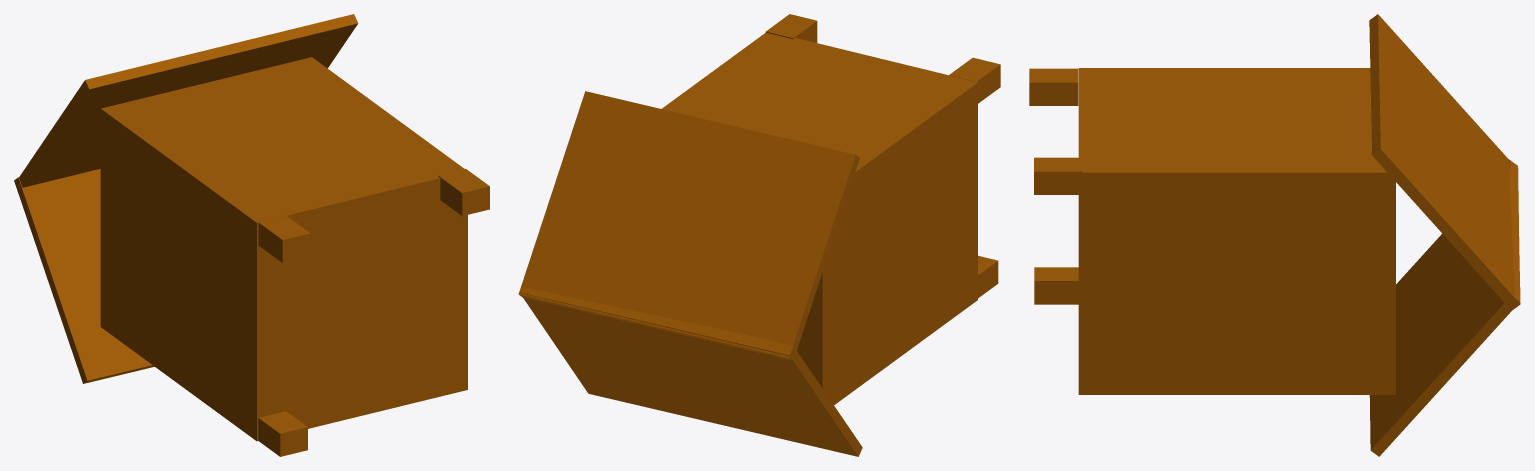
The model's file is hivefbx.fbx.
3 renders of one model, left to right at view 1: azimuth 30°, elevation 25°; view 2: azimuth 150°, elevation 25°; view 3: azimuth 270°, elevation 25°, orthographic. The views are drawn at different scales.
Visible parts, largest first — view 1: Hive, Cube.005, Cube.006, Cube.002, Cube.004, Cube.001; view 2: Cube.005, Hive, Cube.006, Cube.002, Cube.004, Cube.001; view 3: Hive, Cube.005, Cube.006, Cube.002, Cube.004, Cube.001.
Boxes of the visible parts, bbox=[...] form: Hive: bbox=[100, 57, 467, 441]; Cube.005: bbox=[19, 14, 358, 187]; Cube.006: bbox=[14, 169, 154, 383]; Cube.002: bbox=[258, 216, 310, 262]; Cube.004: bbox=[438, 169, 489, 216]; Cube.001: bbox=[258, 411, 307, 456]; Cube.005: bbox=[518, 91, 859, 360]; Hive: bbox=[662, 32, 977, 404]; Cube.006: bbox=[519, 287, 862, 456]; Cube.002: bbox=[949, 57, 1000, 103]; Cube.004: bbox=[765, 14, 817, 42]; Cube.001: bbox=[978, 255, 998, 298]; Hive: bbox=[1078, 68, 1395, 394]; Cube.005: bbox=[1369, 14, 1520, 310]; Cube.006: bbox=[1369, 159, 1519, 456]; Cube.002: bbox=[1029, 68, 1078, 105]; Cube.004: bbox=[1034, 157, 1082, 194]; Cube.001: bbox=[1034, 267, 1078, 304].
Bounding box in the file's own units: 202 × 216 × 309.
1 material, 1 textured.
